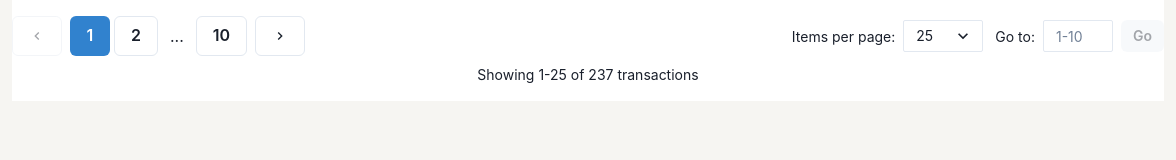
Test: PaginationControls › AC-9.7.6: Validation and Error Handling › shows error for non-numeric input
The image size is (1176, 160).
Type "abc" into the field named "Jump to page number" at [1078, 36], box 1043,20 -> 1113,52
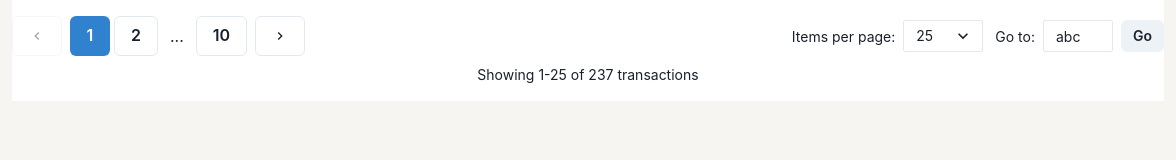
Press Enter in the field named "Jump to page number", box 1043,20 -> 1113,52
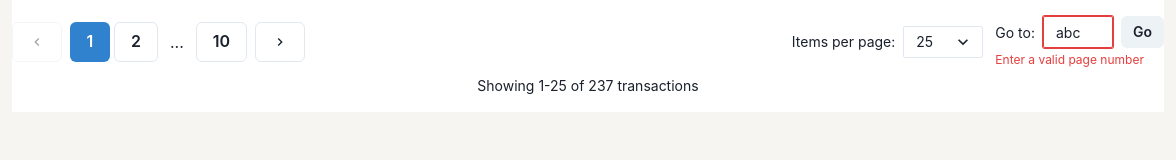
Expected: the text "Enter a valid page number" is shown, 995,52 -> 1164,67
